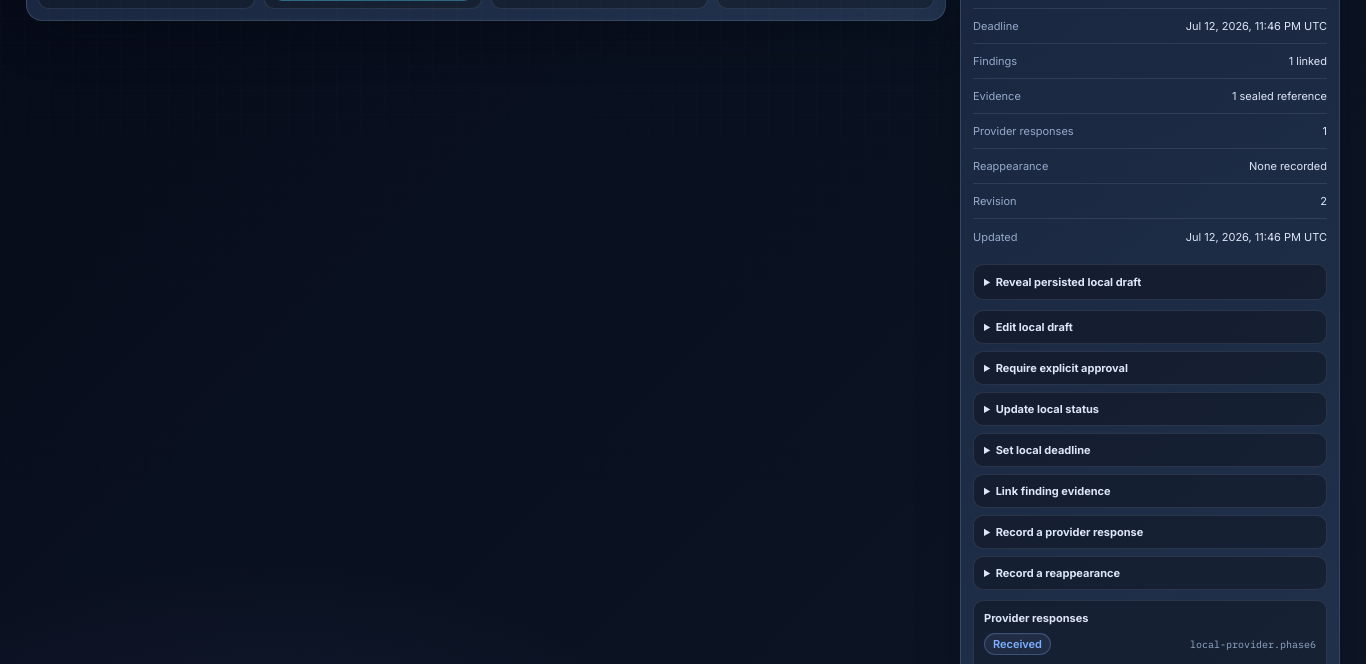
it: native Phase 6 views › renders persisted remediation detail with local-only mutation controls
(page scrolled)
Check: the heading "Edit local draft" is shown, box [996,320,1073,334]
Step 1. Click the heading "Reveal persisted local draft" → (1068, 282), box [996,275,1141,289]
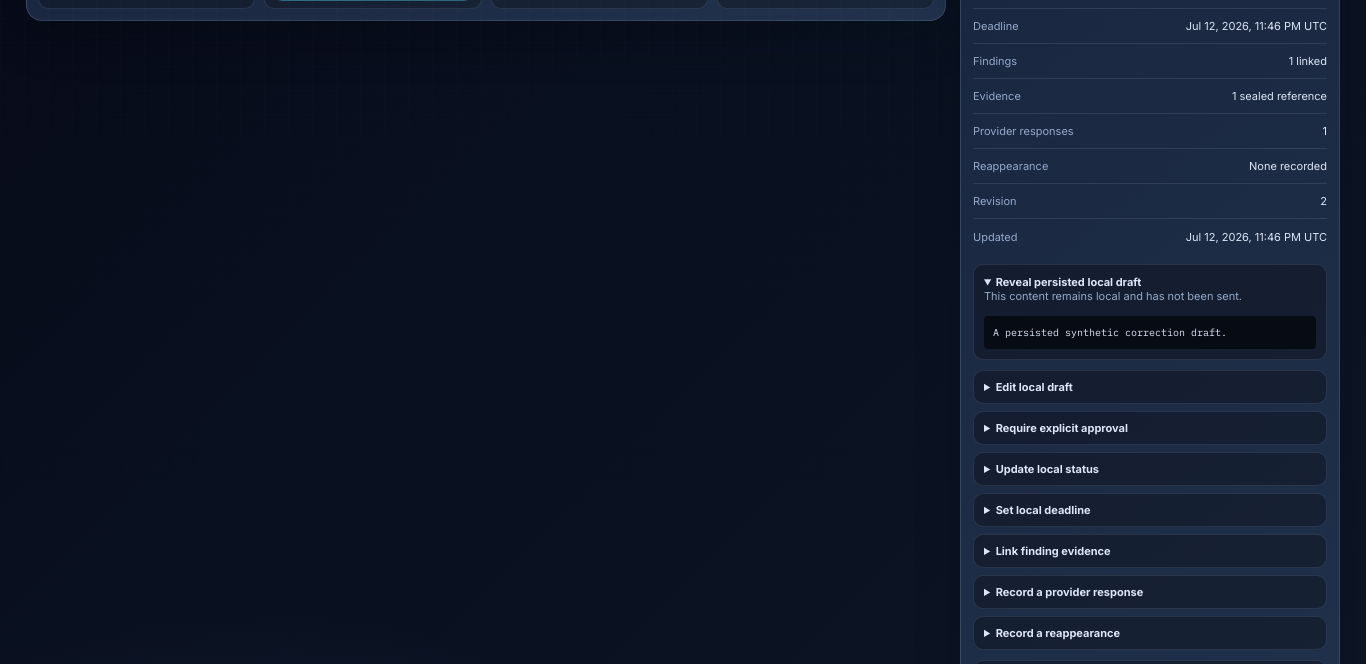
Check: the text "A persisted synthetic correction draft." is shown 2 times
